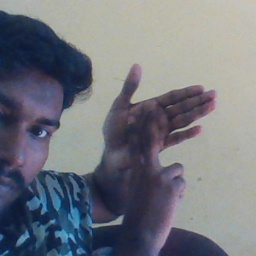N: (98, 64, 222, 204)
